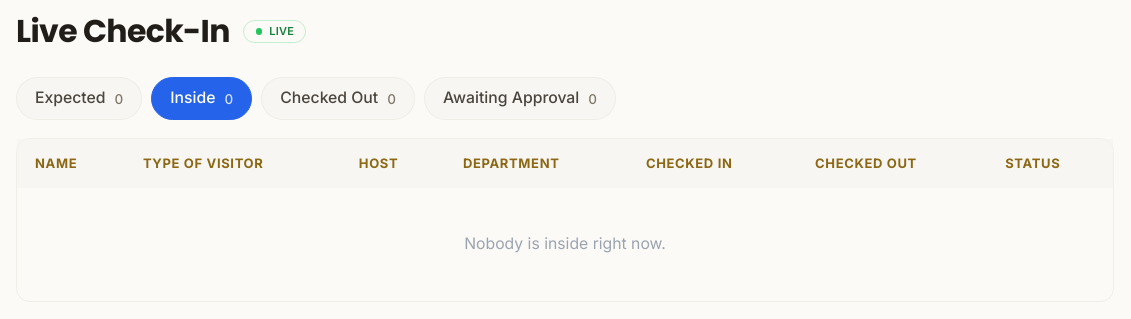
Test: AdminLiveCheckIn › gives the Awaiting Approval lane its own empty state
The width and height of the screenshot is (1131, 319).
Step 1. Click the tab "Awaiting Approval 0" → (520, 99), box top-left (424, 77), bottom-right (616, 120)
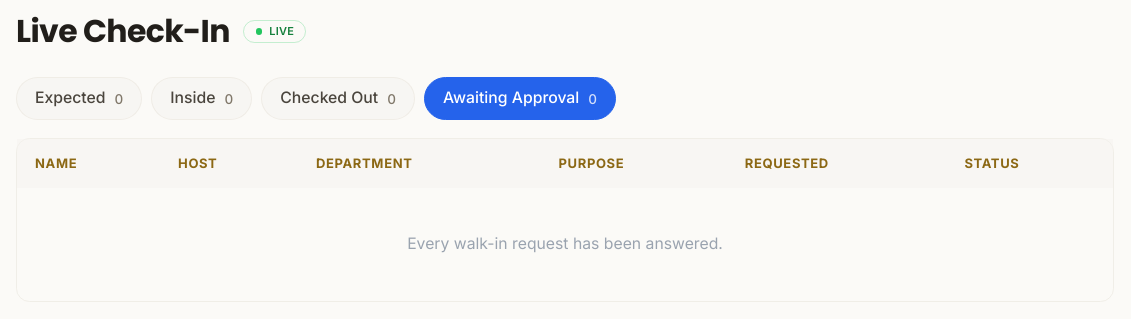
Check: the text "Every walk-in request has been answered." is shown, box top-left (17, 188), bottom-right (1113, 301)
